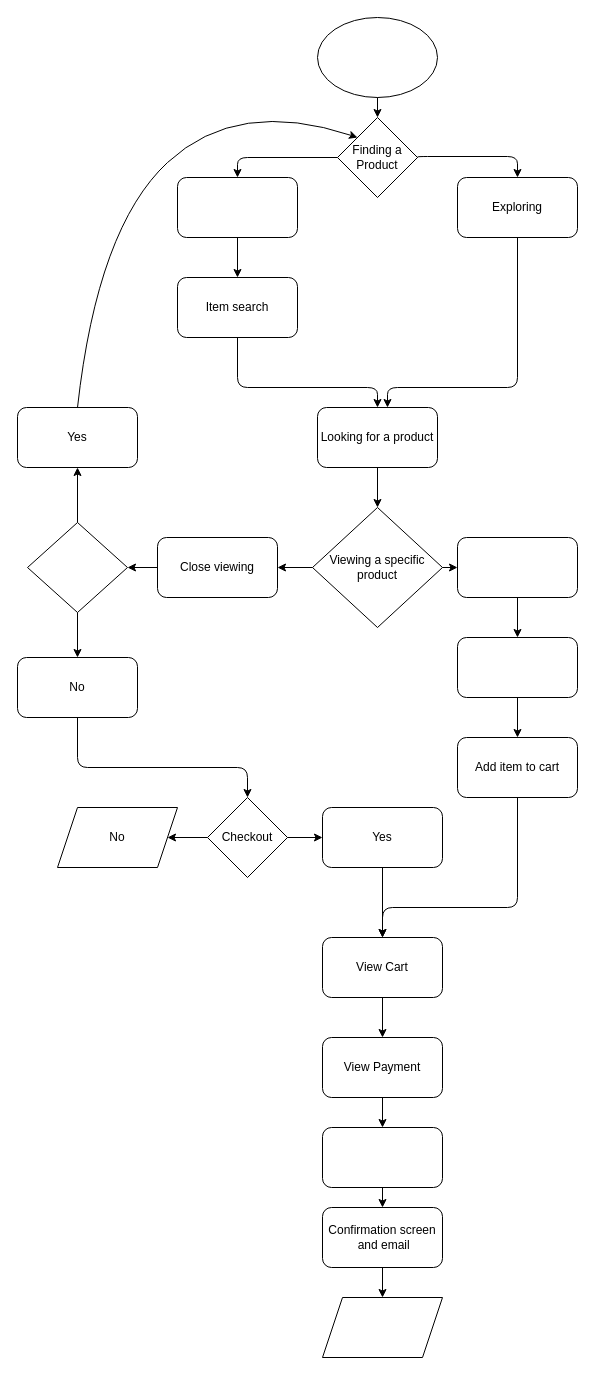
This 595x1375 diagram has some shape labels left out. The shapes that lost their labels are listed below. From the top down, each one's centre as x and y in pixels, then its label:
At point 377,57: "Start".
At point 237,207: "Searching".
At point 77,567: "Continue Shopping?".
At point 517,567: "User adding to cart".
At point 517,667: "Cart confirmation".
At point 382,1157: "Payment info".
At point 382,1327: "Customer leaves".
